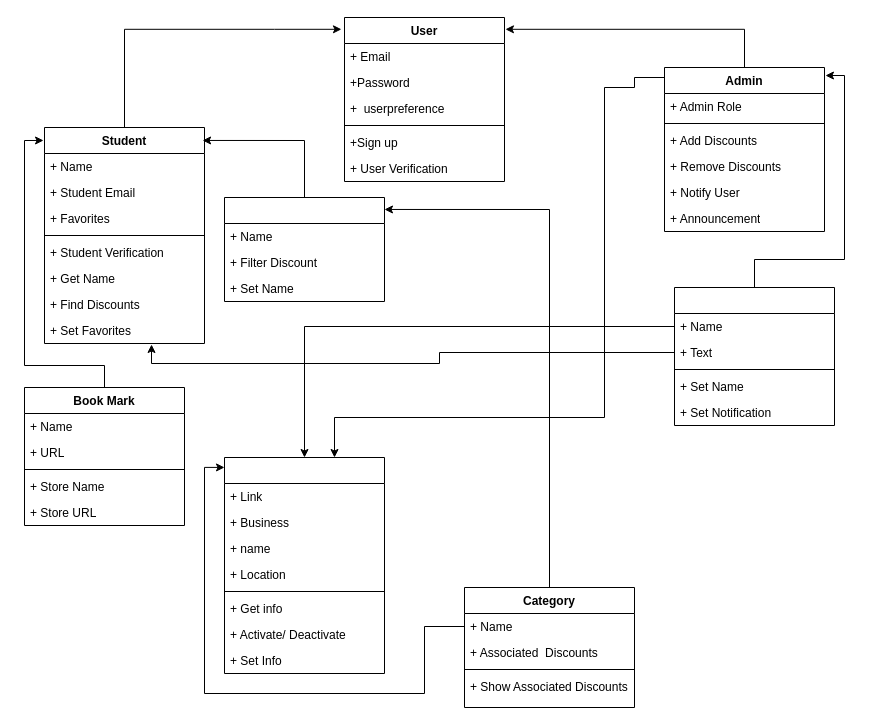
Image size: 870x728. Some labels were removed from this diagram. Each missing label, with the box of its shape:
Discounts: (224, 456, 384, 674)
Major: (224, 196, 384, 302)
Notifications: (674, 286, 834, 426)
